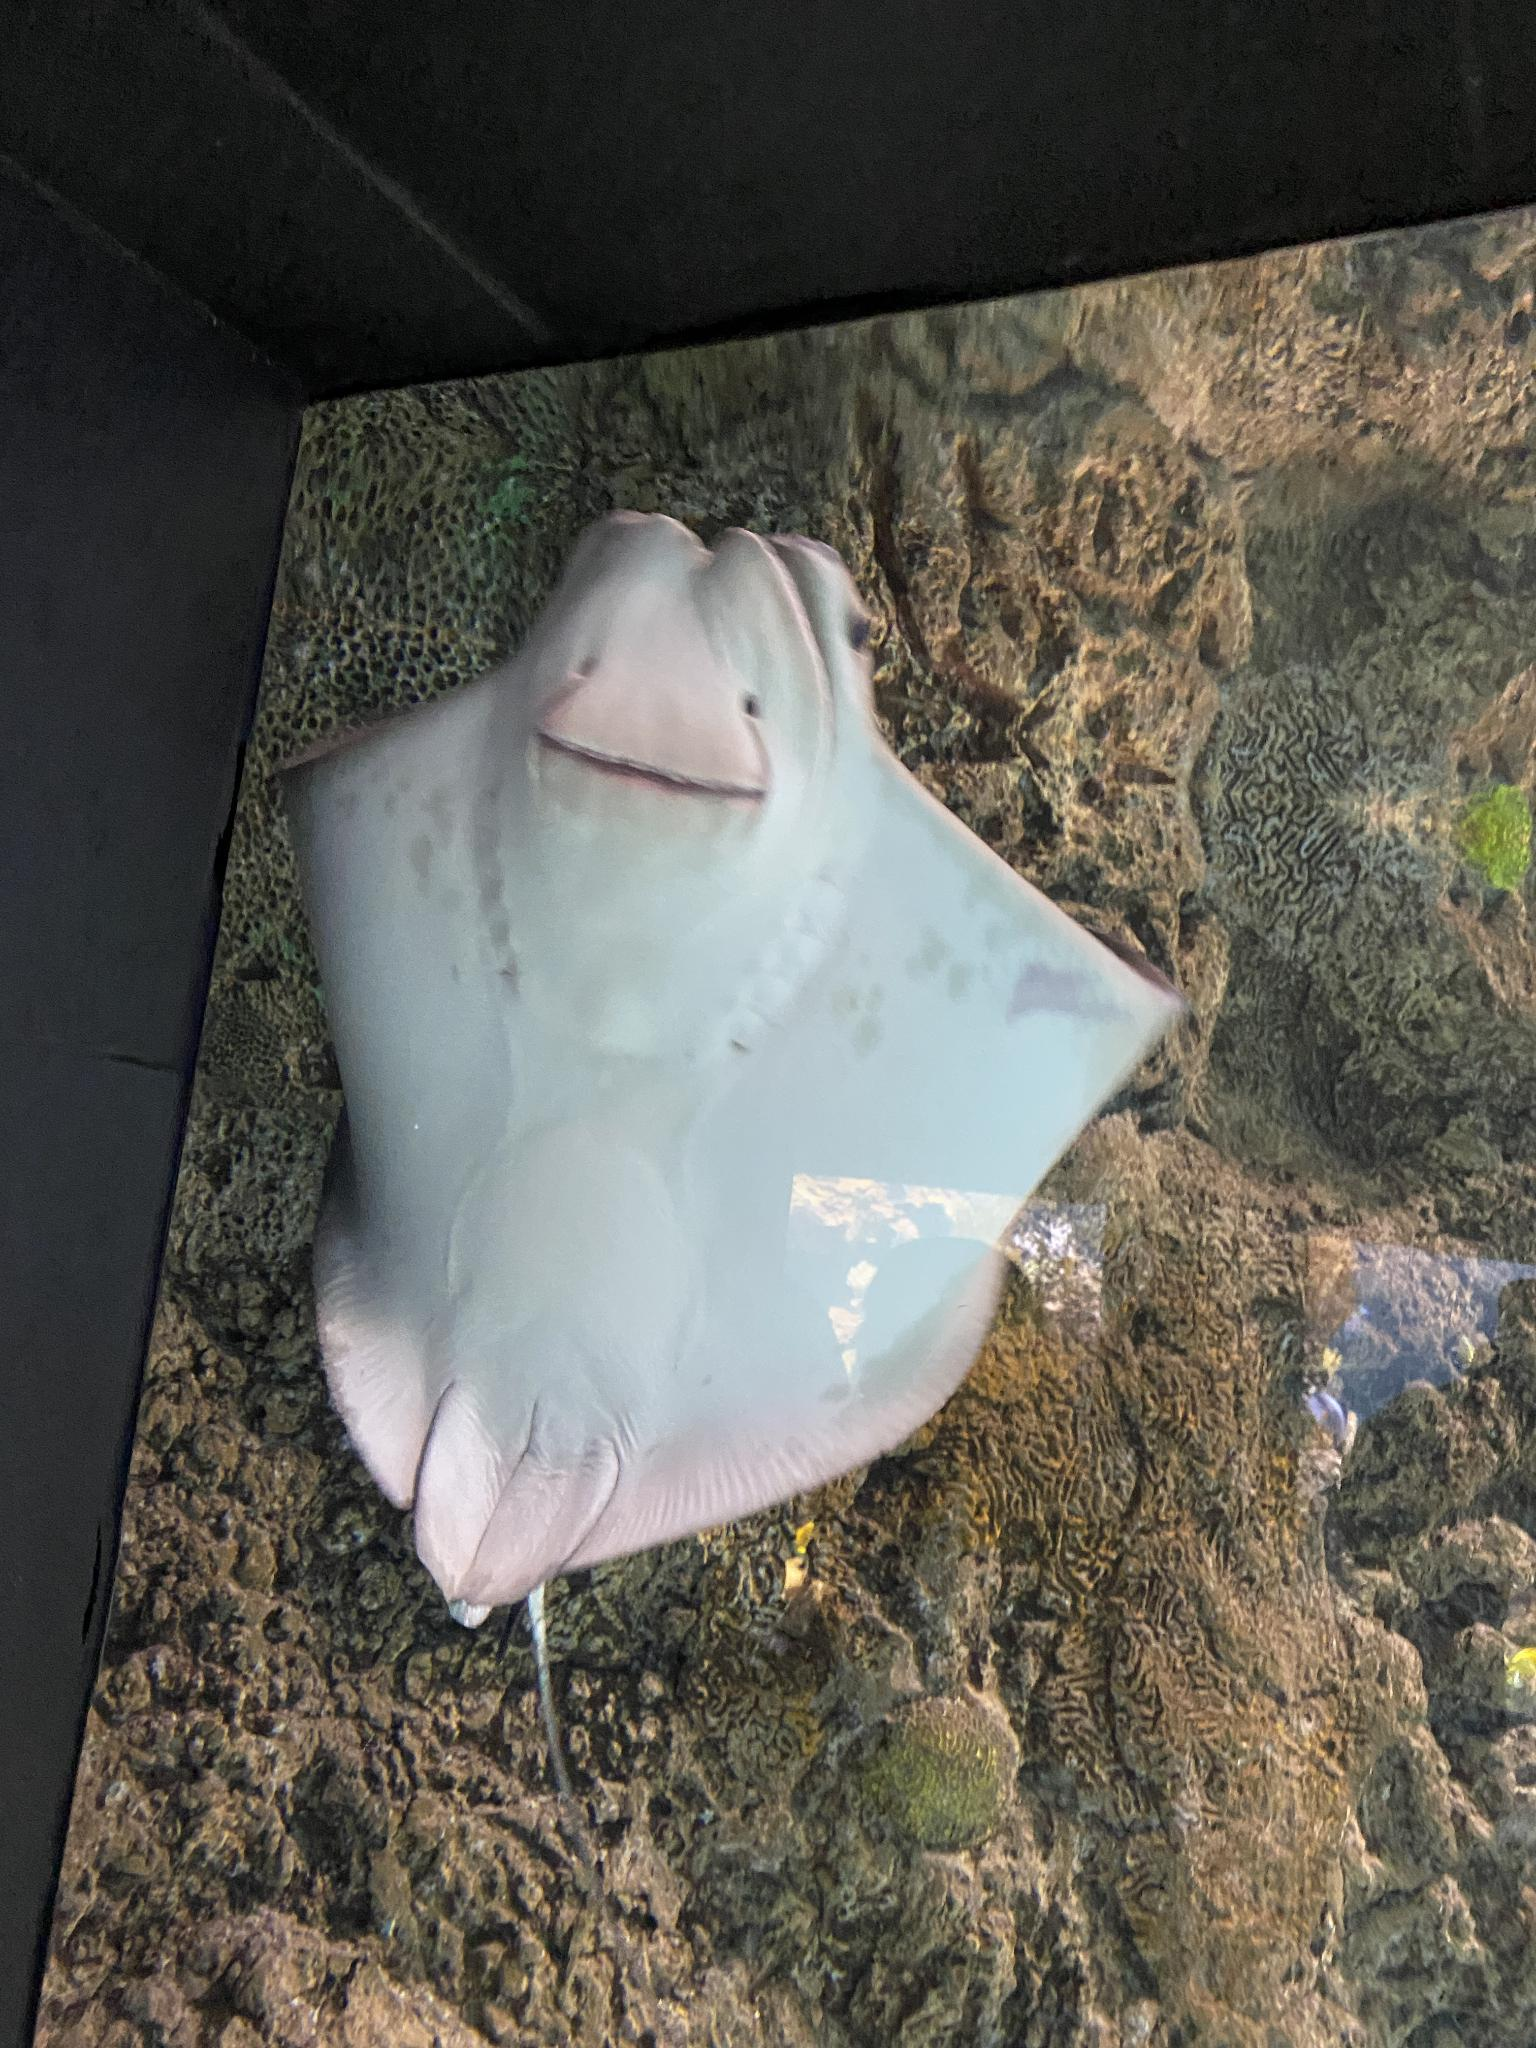stingray: (253, 510, 1187, 1630)
